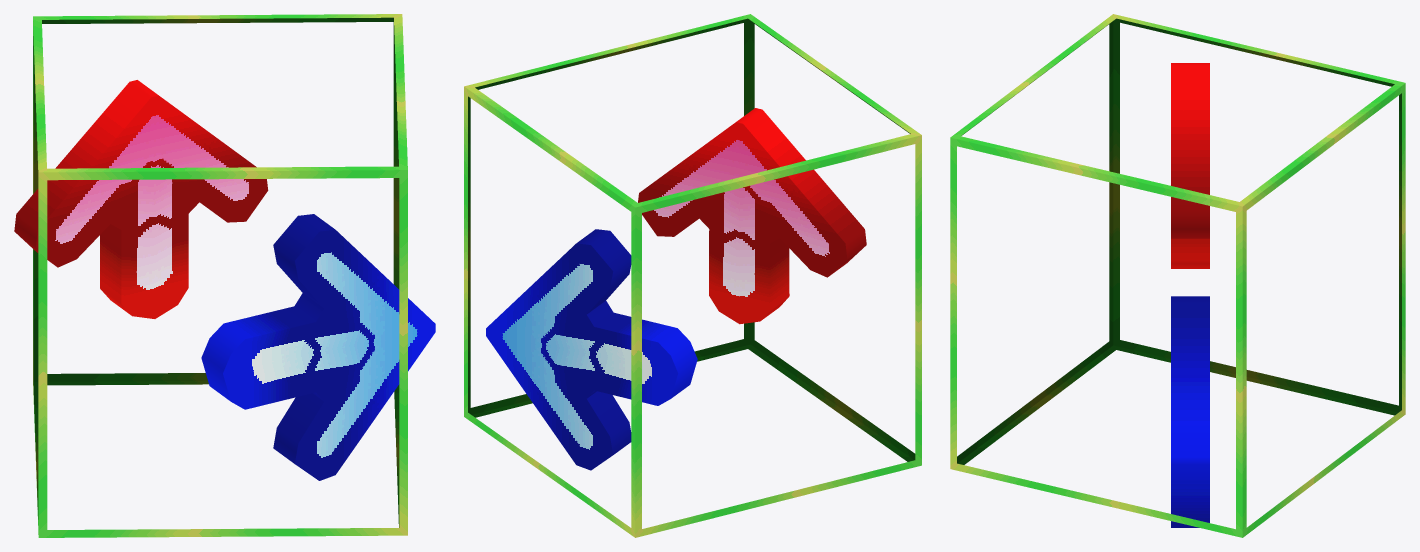
The model's file is ps2_save-icons_dancingstagesupernova-editlibrary.glb.
3 renders of one model, left to right at view 1: azimuth 30°, elevation 25°; view 2: azimuth 150°, elevation 25°; view 3: azimuth 270°, elevation 25°, orthographic. The views are drawn at different scales.
Visible parts, largest first — view 1: output.ico; view 2: output.ico; view 3: output.ico.
Boxes of the visible parts, bbox=[...] form: output.ico: bbox=[14, 14, 435, 537]; output.ico: bbox=[464, 14, 921, 537]; output.ico: bbox=[950, 14, 1405, 537].
Bounding box in the file's own units: 4.52 × 4.21 × 4.52.
Materials: 1 (1 with a texture image).
